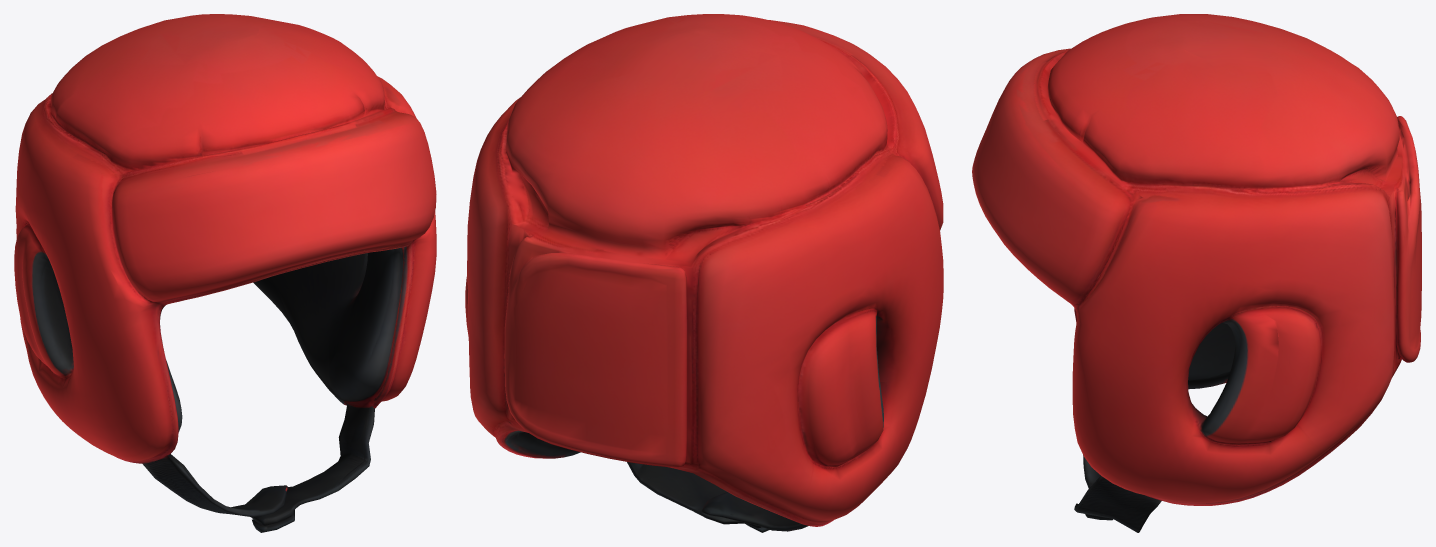
File: HELMET BOXE 2.glb
The picture shows the model from 3 angles, left to right: view 1: azimuth 30°, elevation 25°; view 2: azimuth 150°, elevation 25°; view 3: azimuth 270°, elevation 25°; orthographic projection. The views are drawn at different scales.
Parts seen in each view (by area): view 1: material; view 2: material; view 3: material.
Part boxes in pixels (x1,y1,x2,y2): material: [14, 14, 436, 532]; material: [465, 14, 943, 532]; material: [972, 14, 1421, 532].
Size of the model in its own units: 0.9 by 1.12 by 0.946.
Materials: 1 (1 with a texture image).
